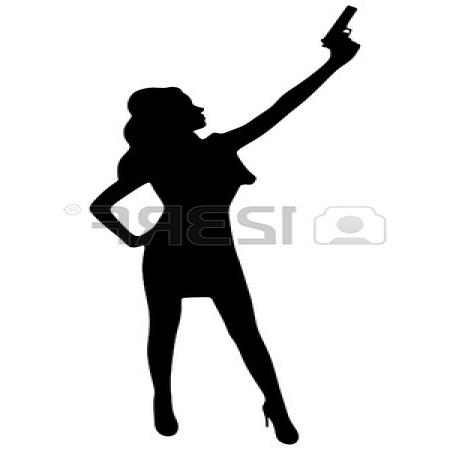Pistol: (321, 4, 365, 51)
